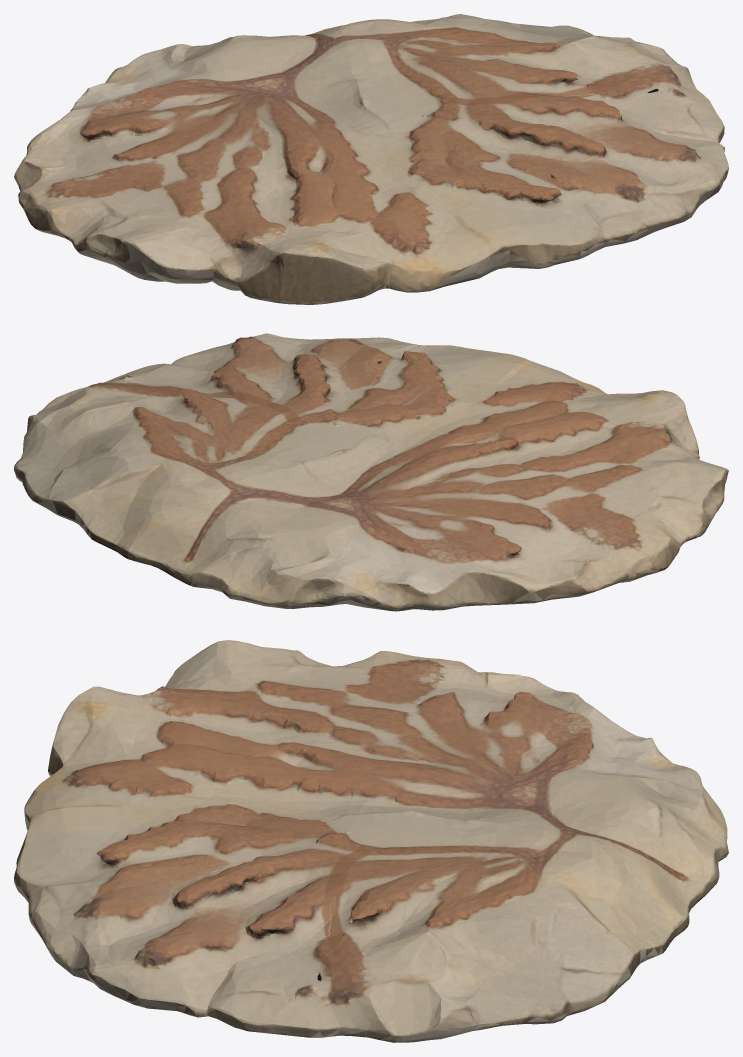
3 renders of one model, top to bottom at view 1: azimuth 30°, elevation 25°; view 2: azimuth 150°, elevation 25°; view 3: azimuth 270°, elevation 25°, orthographic. The views are drawn at different scales.
Visible parts, largest first — view 1: geometry_0; view 2: geometry_0; view 3: geometry_0.
Part boxes in pixels (x1,y1,x2,y2): geometry_0: [14, 14, 728, 304]; geometry_0: [14, 333, 728, 611]; geometry_0: [14, 640, 728, 1042].
Size of the model in its own units: 0.35 by 0.0296 by 0.2883.
3 materials, 2 textured.
